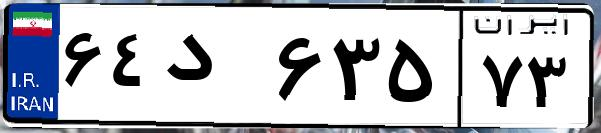3: (330, 28, 385, 110), (525, 38, 570, 115)
4: (110, 28, 158, 98)
5: (385, 28, 445, 110)
6: (270, 28, 330, 110), (57, 26, 110, 100)
7: (475, 38, 525, 113)
د: (158, 20, 270, 120)
